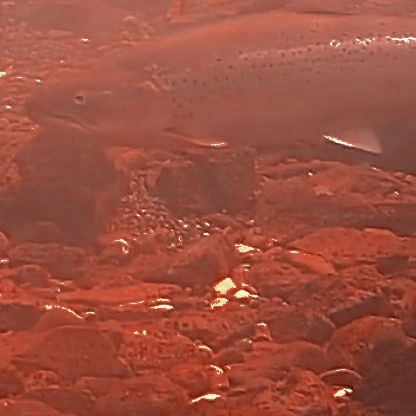salmon: (20, 0, 416, 159)
